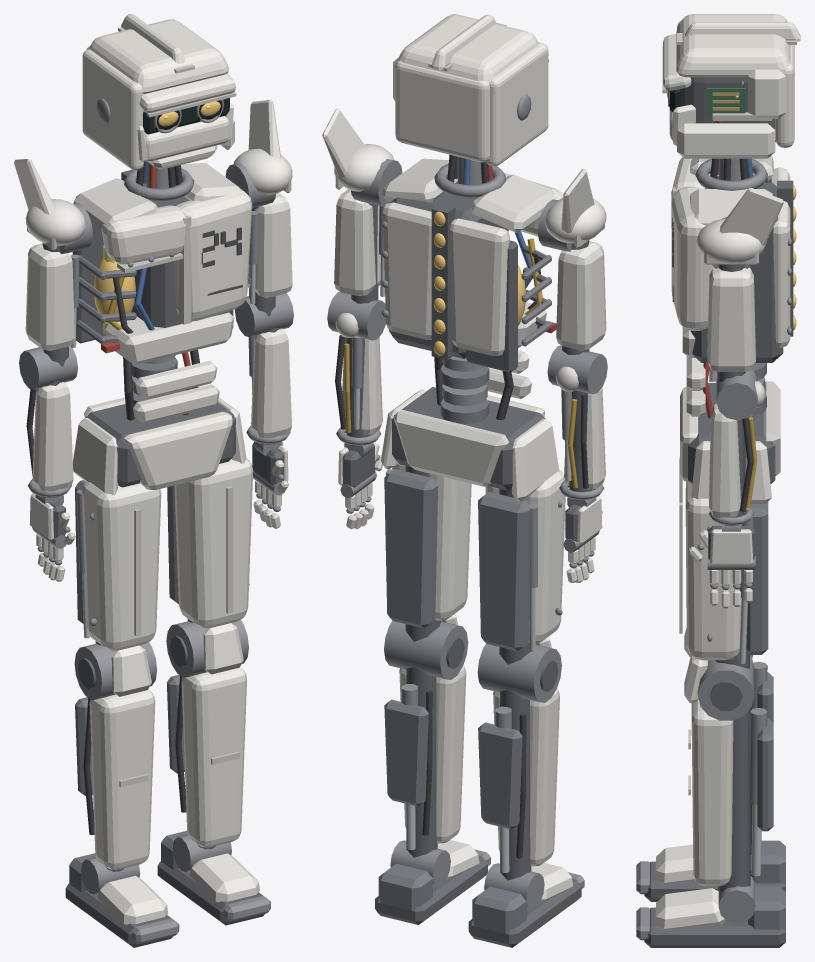
File: unit24_factory.glb
3 views of the same model, side by side, from view 1: azimuth 30°, elevation 25°; view 2: azimuth 150°, elevation 25°; view 3: azimuth 270°, elevation 25° (orthographic). The views are drawn at different scales.
Visible parts, largest first — view 1: ceramic.004, ceramic, ceramic.006, ceramic.002, ceramic.012, ceramic.008, ceramic.034, ceramic.036, ceramic.026, ceramic.027, ceramic.019, ceramic*0.005 (+46 smaller); view 2: frame*1.4, ceramic.035, frame*1.003, ceramic.015, ceramic.014, ceramic*0.9, ceramic.036, ceramic.034, ceramic.026, ceramic.002, ceramic.006, ceramic (+46 smaller); view 3: ceramic.002, ceramic, ceramic.034, ceramic.018, ceramic.012, ceramic.038, frame.002, frame.009, ceramic.019, frame.003, frame*1.4, ceramic.003 (+44 smaller).
Part boxes in pixels (x1,y1,x2,y2): ceramic.004: (82, 481, 161, 650); ceramic: (174, 458, 253, 628); ceramic.006: (89, 689, 155, 869); ceramic.002: (181, 667, 246, 847); ceramic.012: (174, 190, 252, 320); ceramic.008: (124, 411, 232, 489); ceramic.034: (88, 19, 228, 93); ceramic.036: (82, 49, 143, 170); ceramic.026: (25, 243, 74, 350); ceramic.027: (32, 382, 73, 491); ceramic.019: (251, 328, 291, 438); ceramic*0.005: (105, 312, 234, 364); frame*1.4: (384, 469, 438, 628); ceramic.035: (395, 60, 489, 162); frame*1.003: (478, 492, 530, 651); ceramic.015: (450, 218, 509, 355); ceramic.014: (382, 202, 431, 339); ceramic*0.9: (393, 409, 509, 486); ceramic.036: (486, 42, 548, 166); ceramic.034: (397, 14, 538, 84); ceramic.026: (556, 241, 606, 350); ceramic.002: (399, 665, 466, 843); ceramic.006: (493, 688, 559, 866); ceramic: (392, 463, 471, 620); ceramic.002: (691, 700, 733, 886); ceramic: (685, 482, 741, 660); ceramic.034: (676, 14, 790, 77); ceramic.018: (707, 267, 755, 371); ceramic.012: (671, 186, 713, 331); ceramic.038: (677, 123, 775, 158); frame.002: (718, 708, 750, 891); frame.009: (690, 182, 783, 362); ceramic.019: (709, 403, 740, 517); frame.003: (644, 907, 785, 947); frame*1.4: (746, 502, 768, 654); ceramic.003: (655, 888, 725, 929).
Size of the model in its own units: 0.56 by 1.81 by 0.3019.
